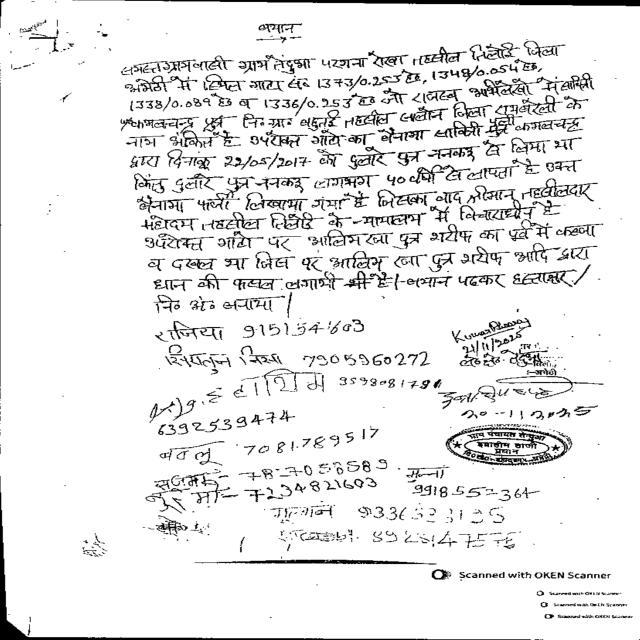logo: (445, 422, 575, 468)
